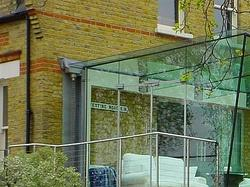sofa: (123, 155, 215, 187)
